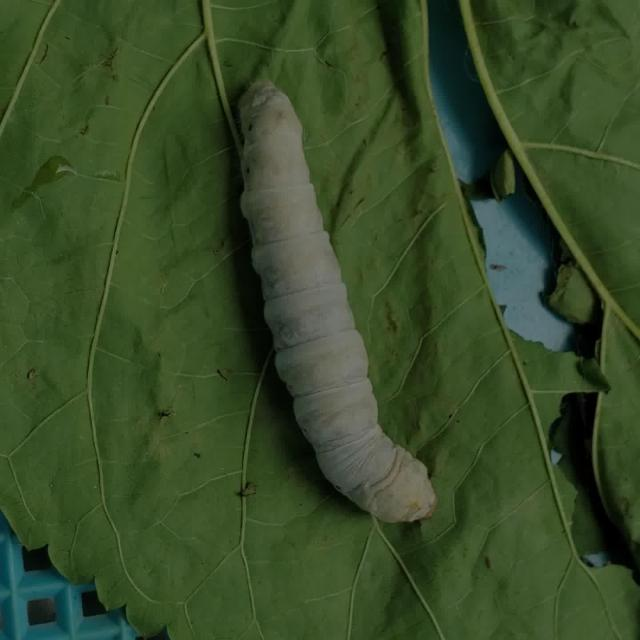Grasserie: (215, 56, 459, 536)
